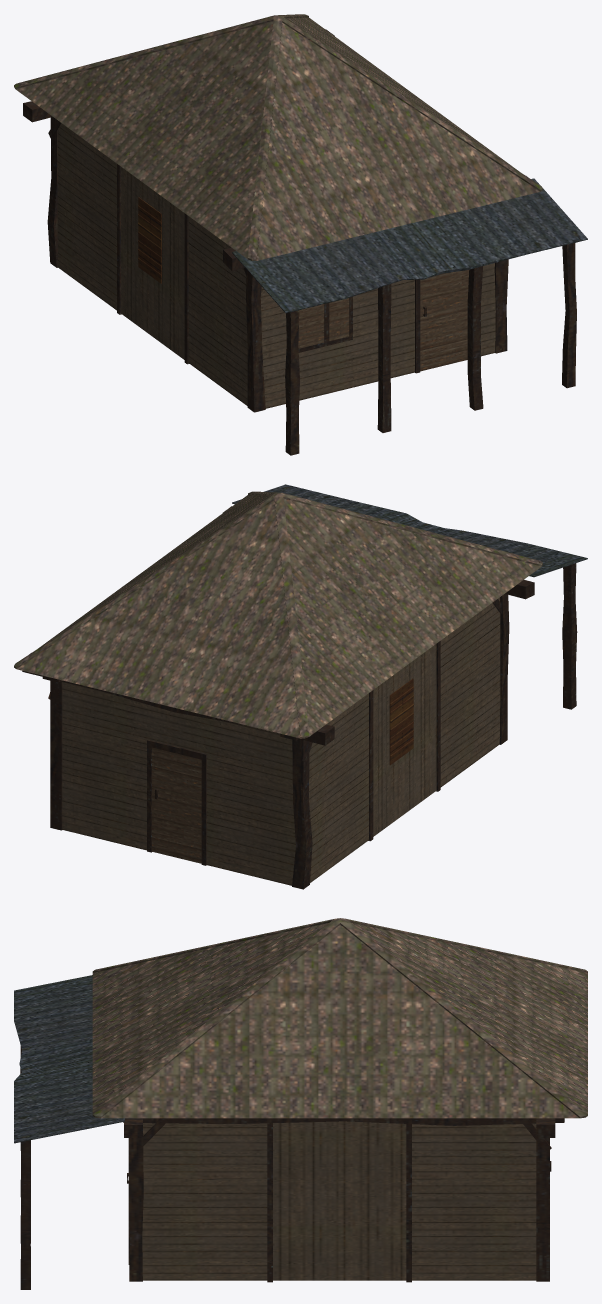
Rendered from Rumah1 wetan.fbx.
The picture shows the model from 3 angles, top to bottom: view 1: azimuth 30°, elevation 25°; view 2: azimuth 150°, elevation 25°; view 3: azimuth 270°, elevation 25°; orthographic projection. The views are drawn at different scales.
Parts seen in each view (by area): view 1: Rumah_wetan_1_Cube.022; view 2: Rumah_wetan_1_Cube.022; view 3: Rumah_wetan_1_Cube.022.
Boxes of the visible parts, <box> form: Rumah_wetan_1_Cube.022: <box>14,14,587,455</box>; Rumah_wetan_1_Cube.022: <box>14,484,587,889</box>; Rumah_wetan_1_Cube.022: <box>14,918,587,1289</box>.
Size of the model in its own units: 604 by 555 by 962.
